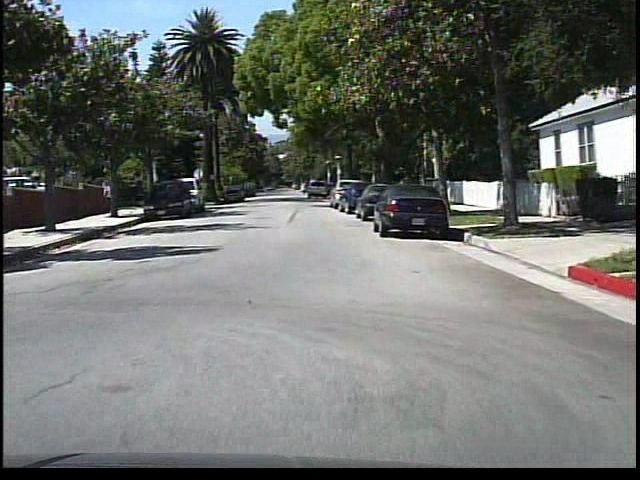person: (99, 177, 116, 216)
